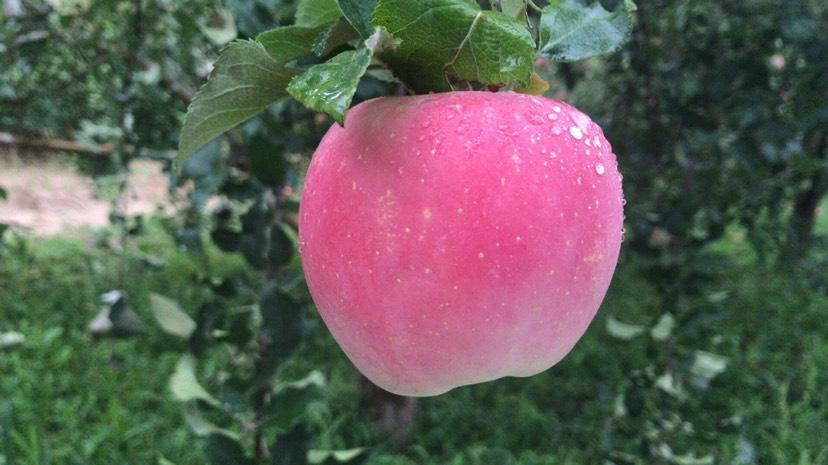apple: (300, 92, 627, 393)
